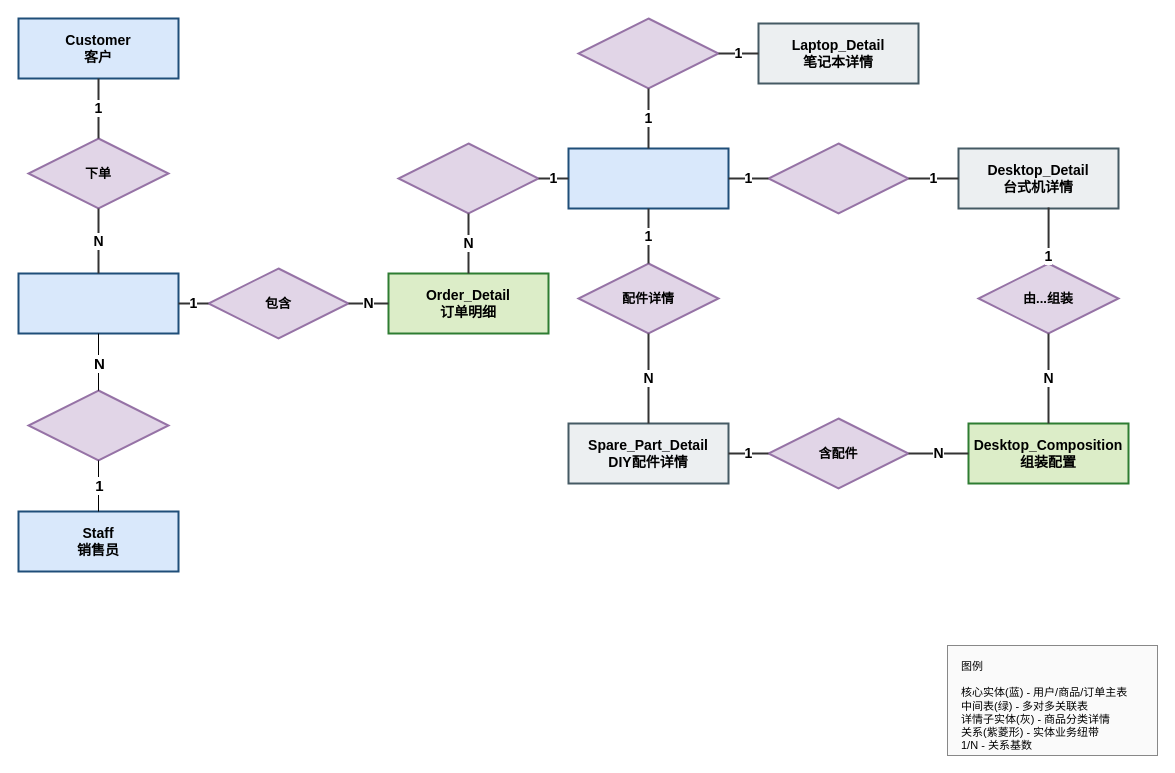
Some shapes in this 1175 by 773 pixel diagram are drawn without their labels. The centre of each missing label's shape, as x and y in pixels:
"Product 商品" goes at pixel 648 178.
"Sales_Order 订单" goes at pixel 98 303.
"台式机详情" goes at pixel 838 178.
"处理" goes at pixel 98 425.
"笔记本详情" goes at pixel 648 53.
"购买" goes at pixel 468 178.
